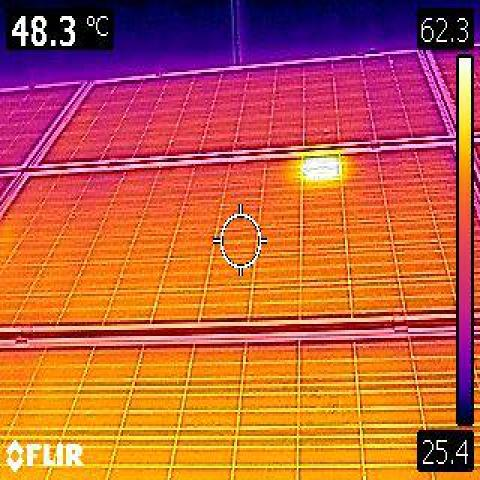fault: (306, 157, 339, 181)
